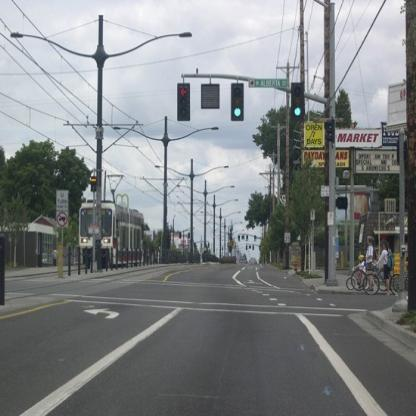Traffic Signal: (229, 82, 243, 119)
